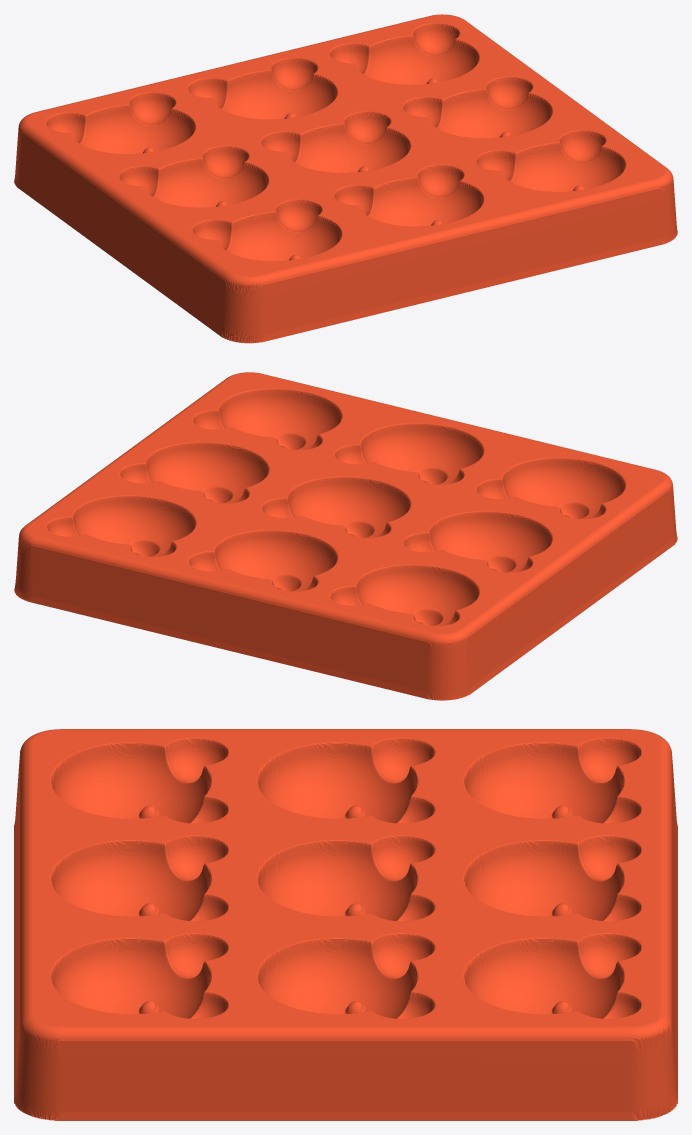
File: mold.glb
3 views of the same model, one above another, from view 1: azimuth 30°, elevation 25°; view 2: azimuth 150°, elevation 25°; view 3: azimuth 270°, elevation 25° (orthographic). The views are drawn at different scales.
Parts seen in each view (by area): view 1: geometry_0; view 2: geometry_0; view 3: geometry_0.
Part boxes in pixels (x1=…): geometry_0: x1=14, y1=14, x2=677, y2=343; geometry_0: x1=14, y1=372, x2=677, y2=700; geometry_0: x1=14, y1=729, x2=677, y2=1120.
Size of the model in its own units: 0.1409 by 0.0182 by 0.1267.
